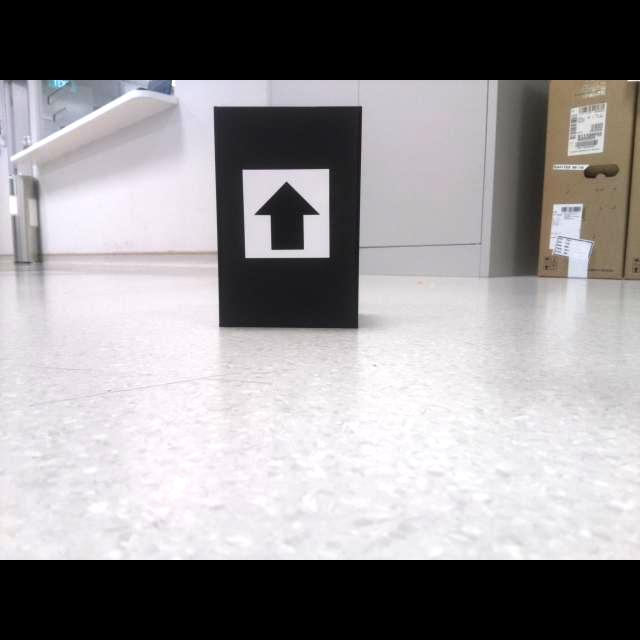UP: (252, 181, 322, 251)
